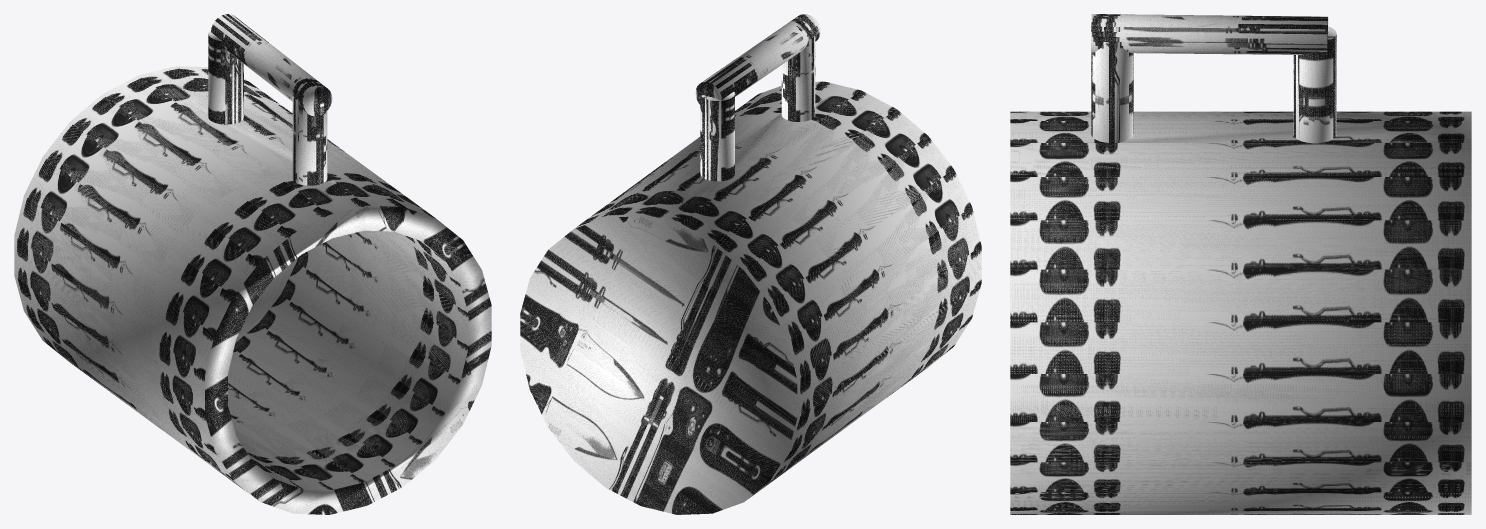
Rendered from model_align.obj.
The picture shows the model from 3 angles, left to right: view 1: azimuth 30°, elevation 25°; view 2: azimuth 150°, elevation 25°; view 3: azimuth 270°, elevation 25°; orthographic projection. The views are drawn at different scales.
Visible parts, largest first — view 1: mesh1_mesh1-geometry, mesh4_mesh4-geometry, mesh3_mesh3-geometry, mesh2_mesh2-geometry; view 2: mesh1_mesh1-geometry, mesh4_mesh4-geometry, mesh3_mesh3-geometry, mesh2_mesh2-geometry; view 3: mesh1_mesh1-geometry, mesh4_mesh4-geometry, mesh3_mesh3-geometry, mesh2_mesh2-geometry.
Boxes of the visible parts, left/top/right/bottom form: mesh1_mesh1-geometry: left=14, top=66, right=491, bottom=514; mesh4_mesh4-geometry: left=211, top=14, right=332, bottom=116; mesh3_mesh3-geometry: left=208, top=30, right=243, bottom=124; mesh2_mesh2-geometry: left=292, top=96, right=327, bottom=185; mesh1_mesh1-geometry: left=520, top=81, right=981, bottom=514; mesh4_mesh4-geometry: left=695, top=14, right=820, bottom=104; mesh3_mesh3-geometry: left=700, top=92, right=734, bottom=181; mesh2_mesh2-geometry: left=781, top=36, right=815, bottom=121; mesh1_mesh1-geometry: left=1010, top=111, right=1471, bottom=514; mesh4_mesh4-geometry: left=1091, top=14, right=1328, bottom=54; mesh3_mesh3-geometry: left=1293, top=26, right=1336, bottom=143; mesh2_mesh2-geometry: left=1091, top=41, right=1133, bottom=142.
Bounding box in the file's own units: 0.0825 × 0.1095 × 0.0951.
